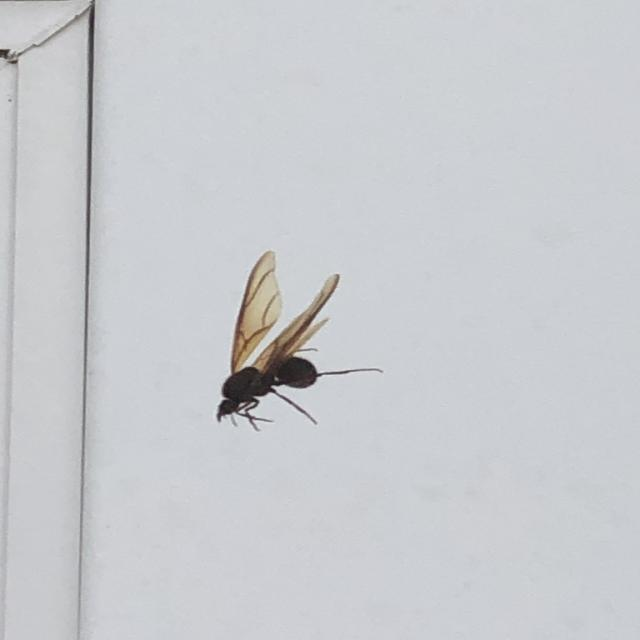Alive-Female-Alate: (216, 250, 384, 432)
